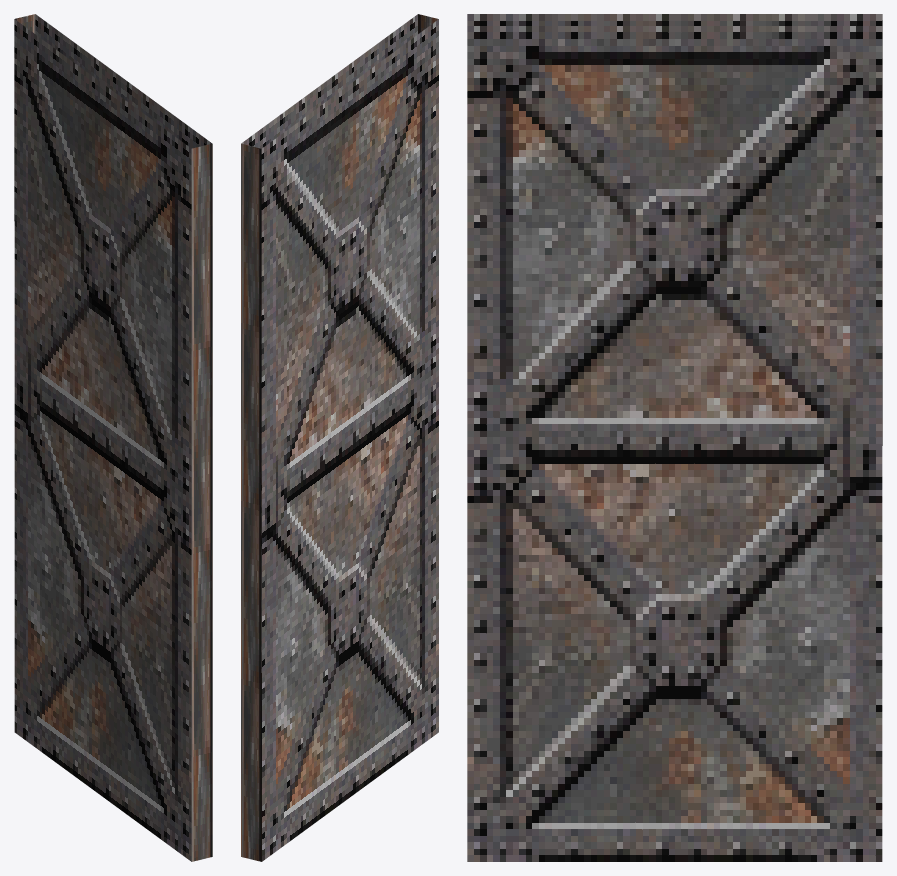
File: primary_199.glb
3 views of the same model, side by side, from view 1: azimuth 30°, elevation 25°; view 2: azimuth 150°, elevation 25°; view 3: azimuth 270°, elevation 25° (orthographic). The views are drawn at different scales.
Visible parts, largest first — view 1: Object; view 2: Object; view 3: Object.
Part boxes in pixels (x1,y1,x2,y2): Object: (14,14,212,861); Object: (241,14,438,861); Object: (467,14,882,861).
Size of the model in its own units: 0.0893 by 2.92 by 1.32.
Materials: 9 (9 with a texture image).
